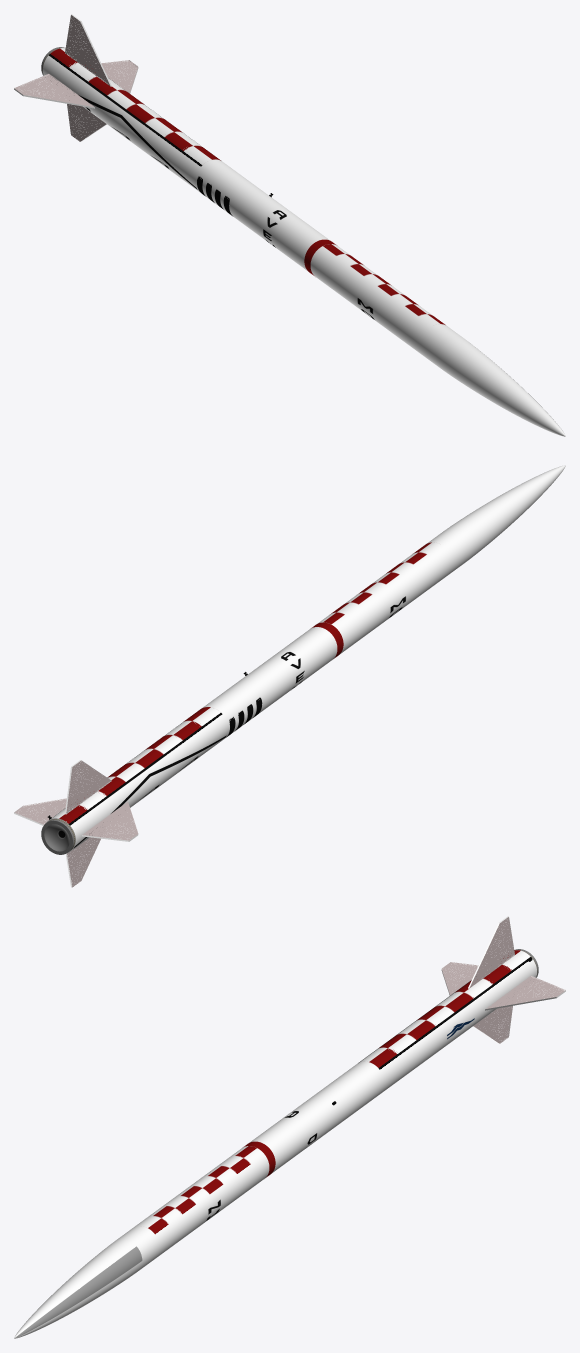
Rendered from mmavenged.obj.
The picture shows the model from 3 angles, top to bottom: view 1: azimuth 30°, elevation 25°; view 2: azimuth 150°, elevation 25°; view 3: azimuth 330°, elevation 25°; orthographic projection.
Parts seen in each view (by area): view 1: 35_Booster, 9_Upper Airframe, 37_Trapezoidal Fin Set, 1_Wildman FWFG Nosecone, 23_Drogue Bay, 29_Active Drag Brake Band, 3_Payload Switch Band; view 2: 35_Booster, 9_Upper Airframe, 37_Trapezoidal Fin Set, 23_Drogue Bay, 1_Wildman FWFG Nosecone, 29_Active Drag Brake Band, 35_Booster_O4200-WY623-I26b, 3_Payload Switch Band; view 3: 35_Booster, 9_Upper Airframe, 37_Trapezoidal Fin Set, 1_Wildman FWFG Nosecone, 23_Drogue Bay, 29_Active Drag Brake Band, 3_Payload Switch Band.
Boxes of the visible parts, x1,y1,x2,y2 form: 35_Booster: [43, 48, 221, 191]; 9_Upper Airframe: [310, 244, 445, 355]; 37_Trapezoidal Fin Set: [14, 14, 138, 141]; 1_Wildman FWFG Nosecone: [437, 337, 565, 436]; 23_Drogue Bay: [231, 185, 329, 270]; 29_Active Drag Brake Band: [195, 159, 256, 217]; 3_Payload Switch Band: [420, 324, 462, 368]; 35_Booster: [45, 707, 228, 852]; 9_Upper Airframe: [317, 542, 452, 653]; 37_Trapezoidal Fin Set: [14, 760, 138, 887]; 23_Drogue Bay: [238, 627, 337, 712]; 1_Wildman FWFG Nosecone: [444, 465, 565, 560]; 29_Active Drag Brake Band: [202, 680, 263, 738]; 35_Booster_O4200-WY623-I26b: [41, 819, 75, 854]; 3_Payload Switch Band: [427, 529, 470, 574]; 35_Booster: [358, 950, 536, 1093]; 9_Upper Airframe: [134, 1146, 269, 1257]; 37_Trapezoidal Fin Set: [441, 916, 565, 1043]; 1_Wildman FWFG Nosecone: [14, 1239, 142, 1338]; 23_Drogue Bay: [250, 1087, 348, 1172]; 29_Active Drag Brake Band: [323, 1061, 384, 1119]; 3_Payload Switch Band: [117, 1226, 159, 1270].
Size of the model in its own units: 11.04 by 11.04 by 84.39.
